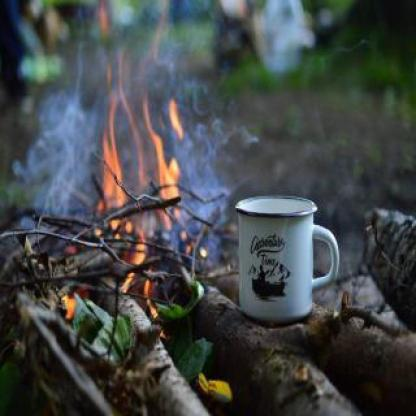fire: (90, 0, 189, 239)
